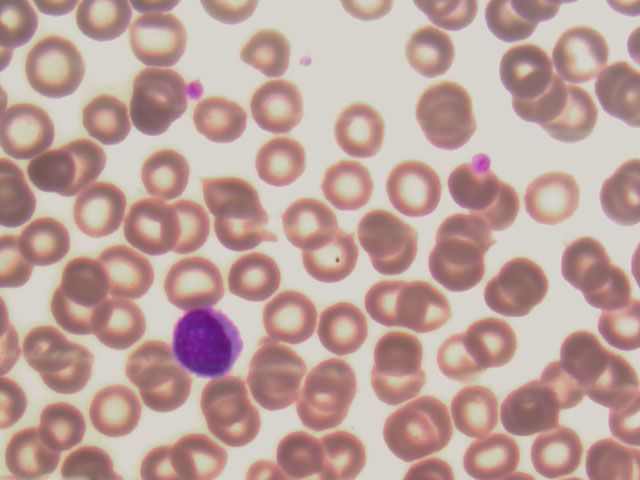Platelets: (181, 75, 208, 101), (472, 152, 498, 175), (298, 51, 318, 75)
RBC: (25, 40, 84, 97), (21, 146, 80, 203), (51, 133, 110, 190), (80, 91, 139, 148), (121, 83, 180, 140), (133, 15, 192, 72), (233, 24, 292, 81), (248, 80, 307, 137), (191, 91, 250, 148), (253, 133, 312, 190), (204, 160, 263, 217), (208, 200, 267, 257), (169, 201, 228, 258), (123, 198, 182, 255), (137, 148, 196, 205), (78, 182, 137, 239), (23, 208, 82, 265), (56, 248, 115, 305), (44, 280, 103, 337), (99, 242, 158, 299), (90, 293, 149, 350), (17, 316, 76, 373), (34, 342, 93, 399), (85, 382, 144, 439), (35, 394, 94, 451), (135, 363, 194, 420), (118, 332, 177, 389), (197, 362, 256, 419), (212, 398, 271, 455), (181, 423, 240, 480), (131, 423, 190, 480), (247, 347, 306, 404), (262, 290, 321, 347), (228, 251, 287, 308), (165, 247, 224, 304), (304, 227, 363, 284), (274, 202, 333, 259), (316, 159, 375, 216), (327, 104, 386, 161), (385, 158, 444, 215), (353, 199, 412, 256), (361, 217, 420, 274), (358, 270, 417, 327), (386, 279, 445, 336), (313, 297, 372, 354), (304, 356, 363, 413), (291, 390, 350, 447), (272, 423, 331, 480), (375, 403, 434, 460), (407, 391, 466, 448), (360, 359, 419, 416), (367, 326, 426, 383), (431, 331, 490, 388), (455, 312, 514, 369), (424, 243, 483, 300), (435, 211, 494, 268), (465, 183, 524, 240), (522, 170, 581, 227), (422, 103, 481, 160), (414, 76, 473, 133), (401, 26, 460, 83), (496, 35, 555, 92), (508, 69, 567, 126), (539, 87, 598, 144), (550, 21, 609, 78), (552, 240, 611, 297), (573, 263, 632, 320), (558, 331, 617, 388), (533, 358, 592, 415), (499, 382, 558, 439), (456, 386, 515, 443), (453, 423, 512, 480), (526, 423, 585, 480), (580, 423, 639, 480), (1, 101, 59, 158), (1, 423, 59, 480), (72, 1, 131, 57)
WBC: (173, 306, 244, 378)
